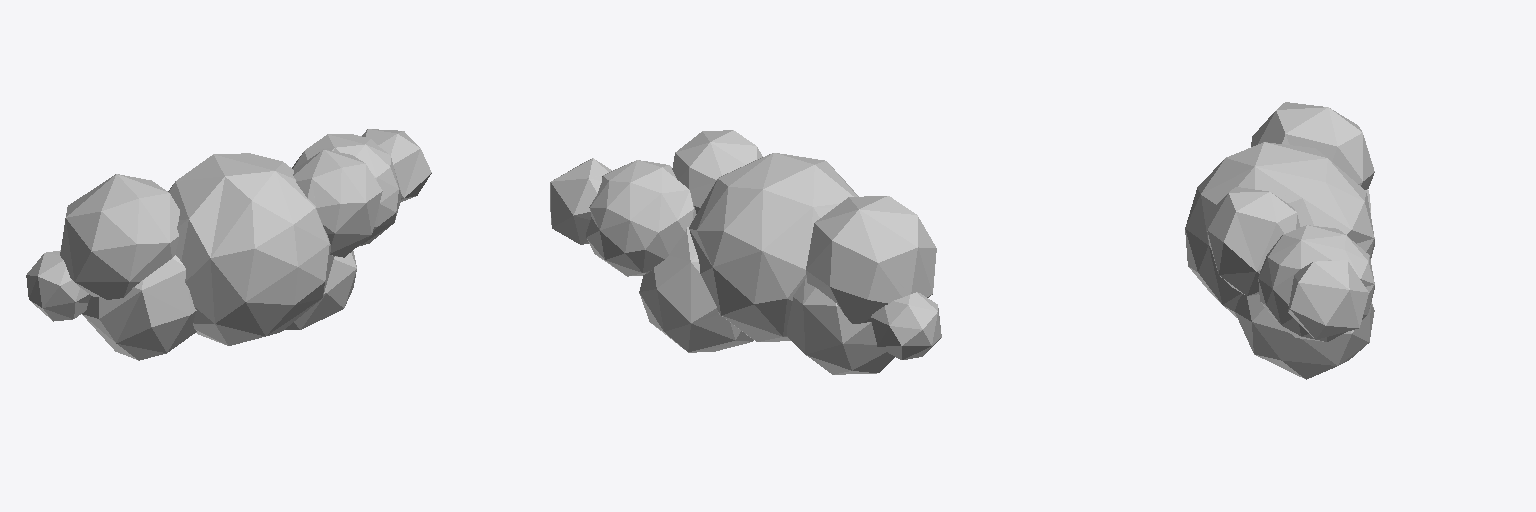
Rendered from tinker.obj.
3 views of the same model, side by side, from view 1: azimuth 30°, elevation 25°; view 2: azimuth 150°, elevation 25°; view 3: azimuth 270°, elevation 25° (orthographic).
Visible parts, largest first — view 1: obj_0; view 2: obj_0; view 3: obj_0.
Part boxes in pixels (x1,y1,x2,y2): obj_0: (26, 129, 431, 360); obj_0: (550, 130, 941, 374); obj_0: (1185, 102, 1374, 379).
Size of the model in its own units: 58.65 by 27.21 by 24.66.